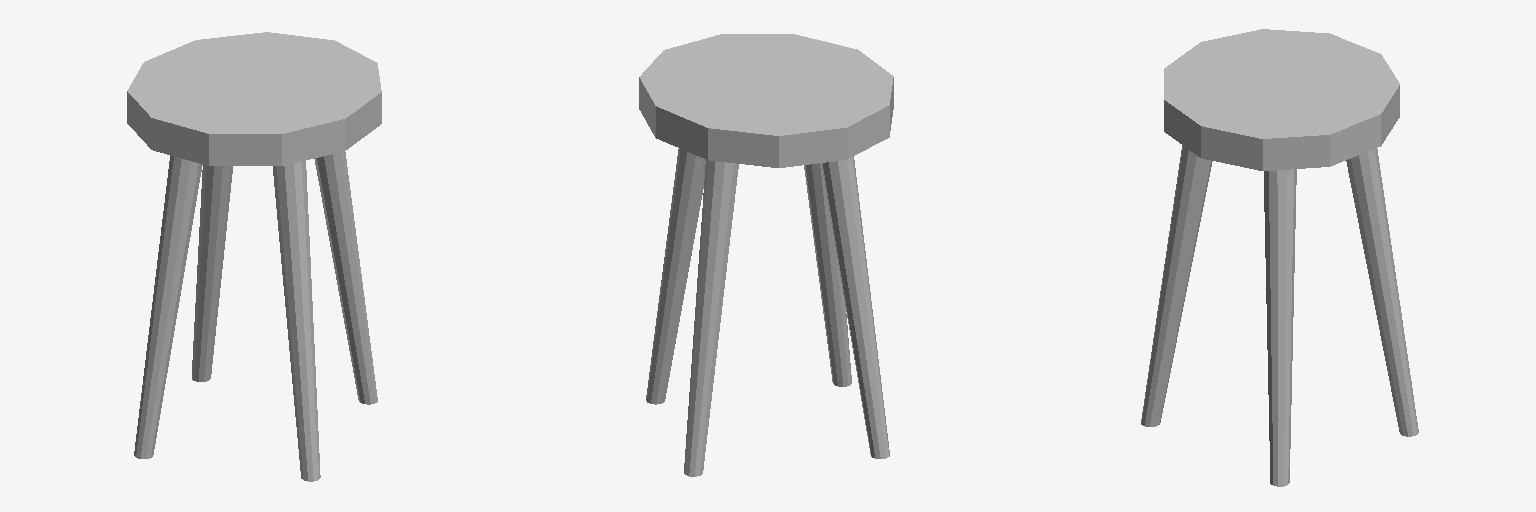
Rendered from chair2.obj.
3 renders of one model, left to right at view 1: azimuth 30°, elevation 25°; view 2: azimuth 150°, elevation 25°; view 3: azimuth 270°, elevation 25°, orthographic.
Visible parts, largest first — view 1: Cylinder.001; view 2: Cylinder.001; view 3: Cylinder.001.
Part boxes in pixels (bbox=[...]): Cylinder.001: bbox=[127, 32, 381, 481]; Cylinder.001: bbox=[639, 34, 893, 476]; Cylinder.001: bbox=[1141, 29, 1418, 486].
Bounding box in the file's own units: 0.6466 × 0.8792 × 0.6442.